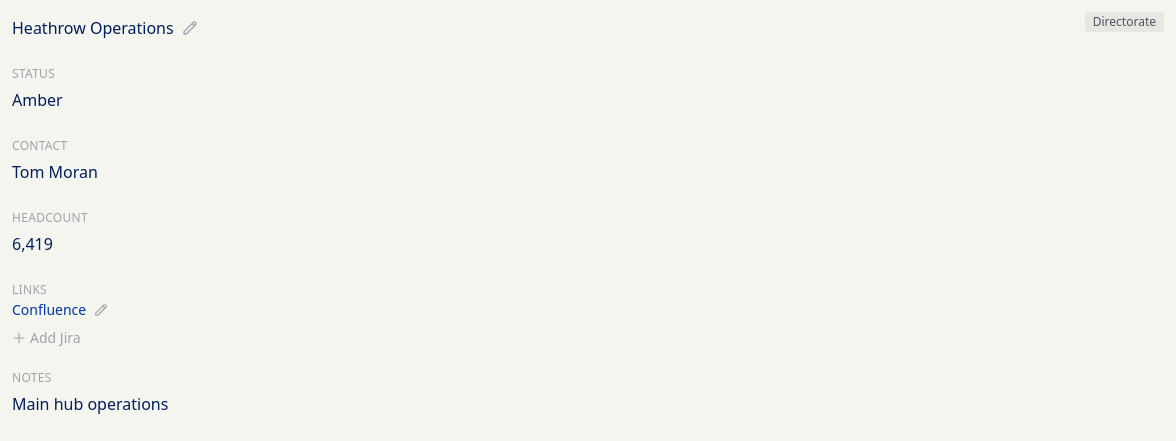
Test: NodeEditor › editing links › shows editable Confluence URL field
Click the button with test id "edit-confluence-btn" at (101, 310), box [94,303,108,317]
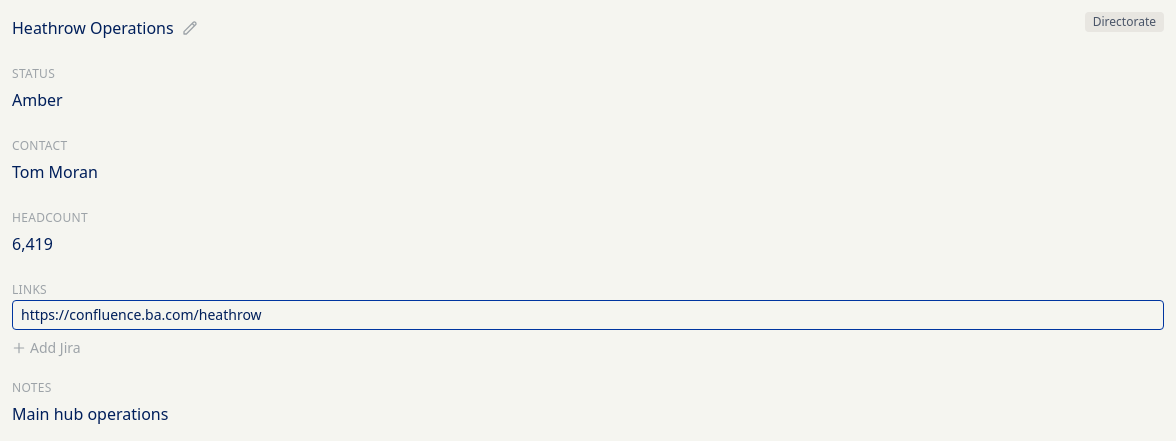
Now the field with placeholder "Confluence URL" is shown, box [12,300,1164,330]
